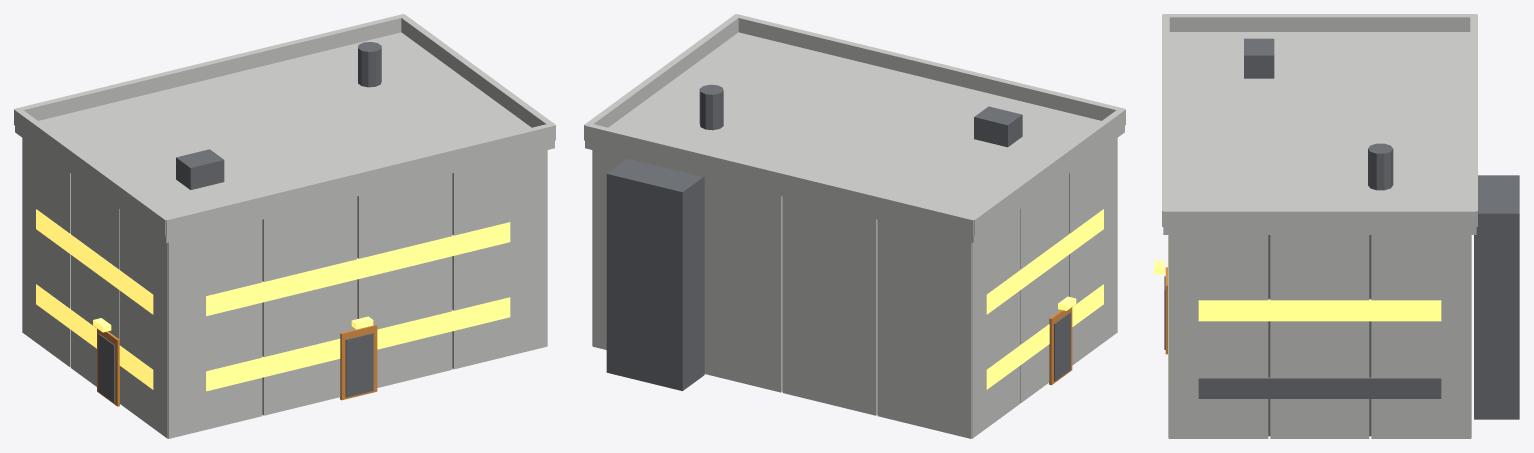
The model's file is B_plant_office.glb.
3 views of the same model, side by side, from view 1: azimuth 30°, elevation 25°; view 2: azimuth 150°, elevation 25°; view 3: azimuth 270°, elevation 25° (orthographic). The views are drawn at different scales.
Visible parts, largest first — view 1: Cube.029, Cube.003, Cube, Cube.001, Cube.002, Cube.008, Cube.010, Cube.030, Cube.031, Cube.009, Cube.025, Cube.022 (+10 smaller); view 2: Cube.029, Cube.028, Cube.005, Cube.004, Cube.006, Cube.010, Cube.008, Cube.031, Cube.030, Cube.009, Cube.032, Cube.007 (+7 smaller); view 3: Cube.029, Cube.013, Cube.011, Cube.012, Cube.028, Cube.033, Cube.032, Cube.026, Cube.023, Cube.030, Cube.031, Cube.034 (+4 smaller).
Part boxes in pixels (x1,y1,x2,y2): Cube.029: (15,32,554,242); Cube.003: (452,150,547,369); Cube: (168,220,262,438); Cube.001: (262,196,357,415); Cube.002: (357,173,452,387); Cube.008: (119,209,168,438); Cube.010: (22,138,70,367); Cube.030: (163,124,555,235); Cube.031: (15,14,405,120); Cube.009: (71,173,119,386); Cube.025: (206,222,510,316); Cube.022: (206,297,510,391); Cube.029: (585,32,1124,242); Cube.028: (606,158,704,390); Cube.005: (782,196,877,415); Cube.004: (877,220,971,438); Cube.006: (704,177,782,392); Cube.010: (971,209,1020,438); Cube.008: (1069,138,1117,365); Cube.031: (584,124,976,235); Cube.030: (734,14,1124,120); Cube.009: (1020,173,1068,402); Cube.032: (969,108,1125,235); Cube.007: (592,150,626,349); Cube.029: (1163,32,1476,234); Cube.013: (1371,235,1470,438); Cube.011: (1169,235,1268,438); Cube.012: (1270,235,1369,438); Cube.028: (1474,175,1519,419); Cube.033: (1163,208,1476,227); Cube.032: (1163,14,1476,31); Cube.026: (1198,299,1441,321); Cube.023: (1198,377,1441,398); Cube.030: (1162,14,1169,226); Cube.031: (1470,14,1477,226); Cube.034: (1244,38,1274,78).
Bounding box in the file's own units: 18.8 × 11.1 × 14.45.
